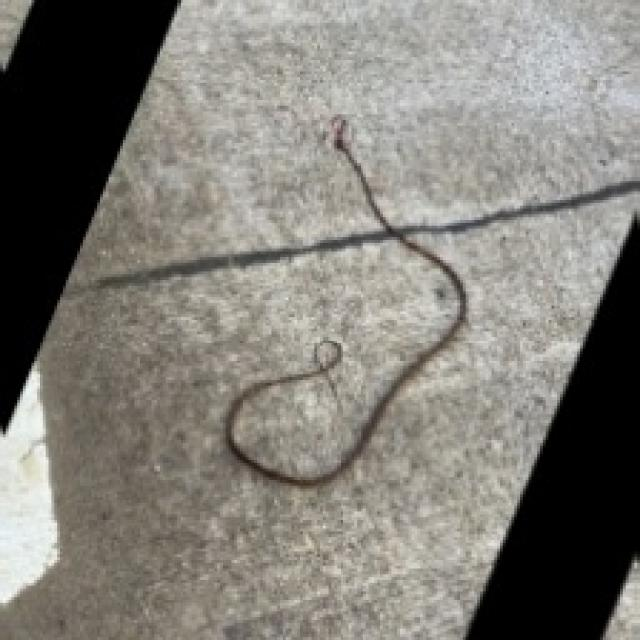philippine blunt-headed catsnake: (226, 114, 466, 483), (226, 117, 463, 483)
